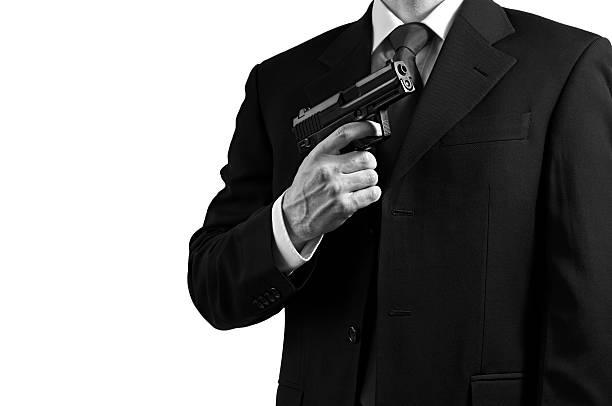weapon: (289, 59, 414, 159)
